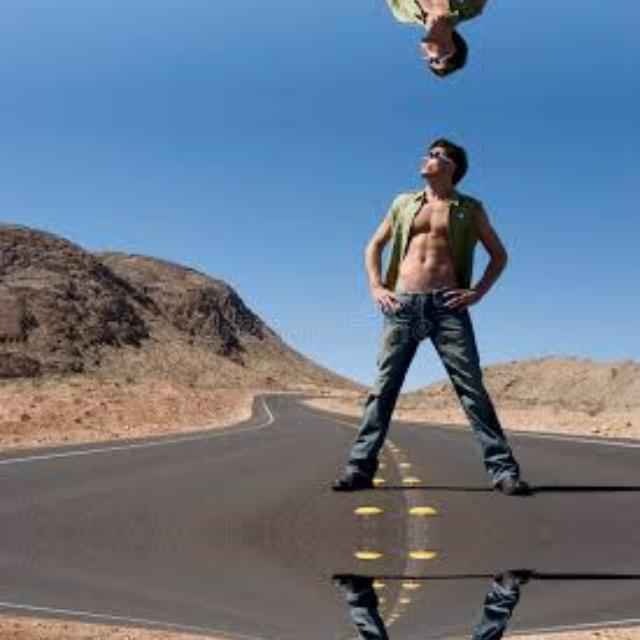person: (358, 132, 530, 500), (358, 0, 529, 82), (358, 565, 529, 640)
